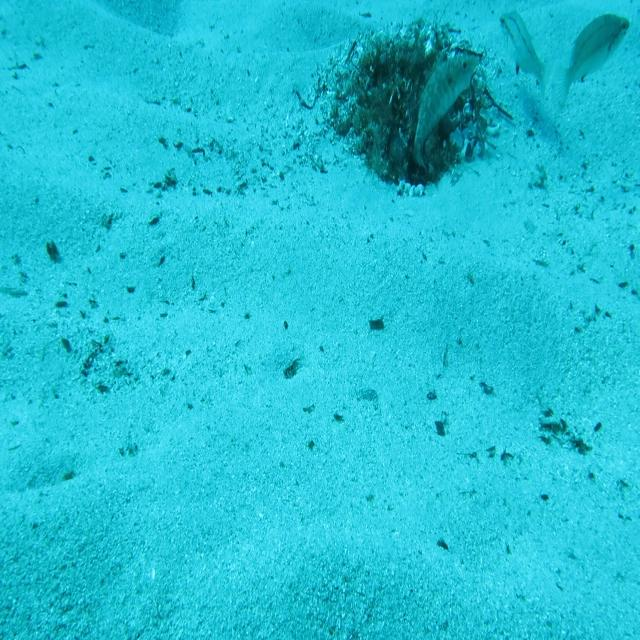LF: (405, 50, 479, 174)
core_nest: (393, 41, 443, 85)
female: (551, 13, 630, 118), (498, 10, 548, 99)
nest: (324, 14, 501, 201)
vegetation: (44, 239, 66, 266), (283, 357, 303, 379), (367, 315, 385, 331)
